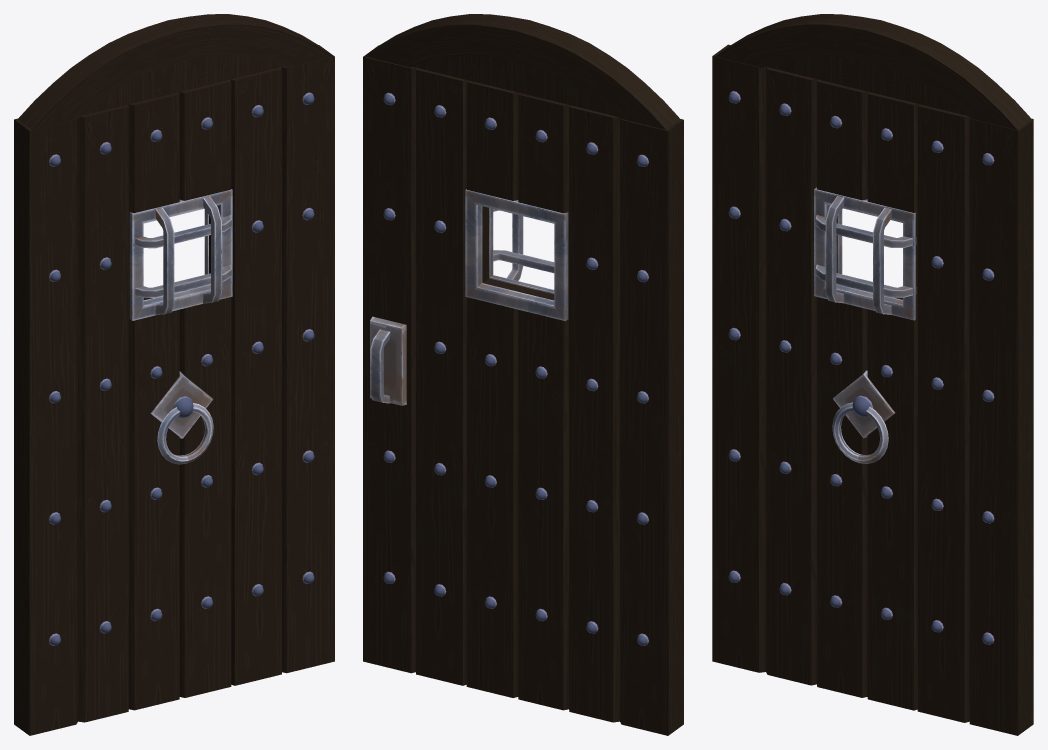
The model's file is Door_2_Round.gltf.
The picture shows the model from 3 angles, left to right: view 1: azimuth 30°, elevation 25°; view 2: azimuth 150°, elevation 25°; view 3: azimuth 330°, elevation 25°; orthographic projection.
Parts seen in each view (by area): view 1: Door_2_Round; view 2: Door_2_Round; view 3: Door_2_Round.
Part boxes in pixels (x1,y1,x2,y2): Door_2_Round: (14, 14, 334, 735); Door_2_Round: (363, 14, 683, 735); Door_2_Round: (712, 14, 1033, 735).
Size of the model in its own units: 1.12 by 2.33 by 0.2609.
2 materials, 2 textured.
